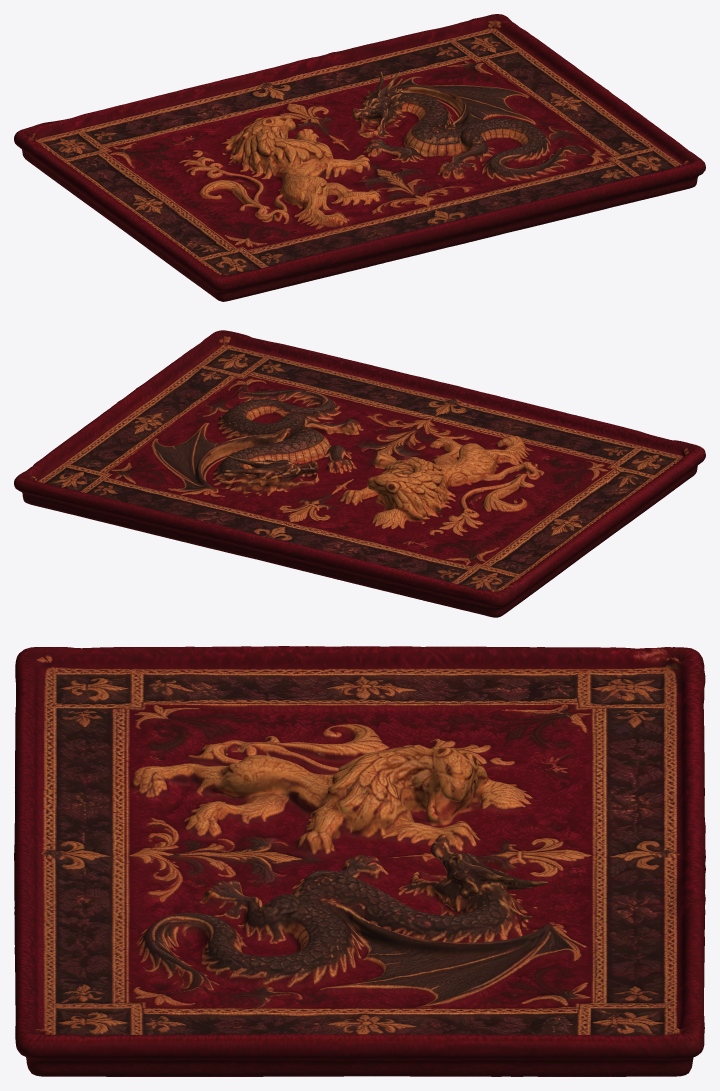
Rendered from dragon-lion-rug.glb.
3 renders of one model, top to bottom at view 1: azimuth 30°, elevation 25°; view 2: azimuth 150°, elevation 25°; view 3: azimuth 270°, elevation 25°, orthographic. The views are drawn at different scales.
Visible parts, largest first — view 1: tripo_node_c6383449; view 2: tripo_node_c6383449; view 3: tripo_node_c6383449.
Boxes of the visible parts, x1,y1,x2,y2 form: tripo_node_c6383449: [14, 14, 705, 301]; tripo_node_c6383449: [14, 330, 705, 617]; tripo_node_c6383449: [14, 646, 705, 1076].
Size of the model in its own units: 97.77 by 9.68 by 71.84.
Materials: 1 (1 with a texture image).
